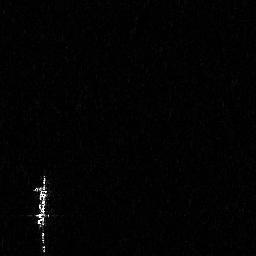ship: (28, 172, 59, 256)
